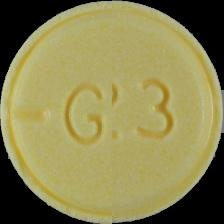58118-1392: (0, 0, 224, 224)
